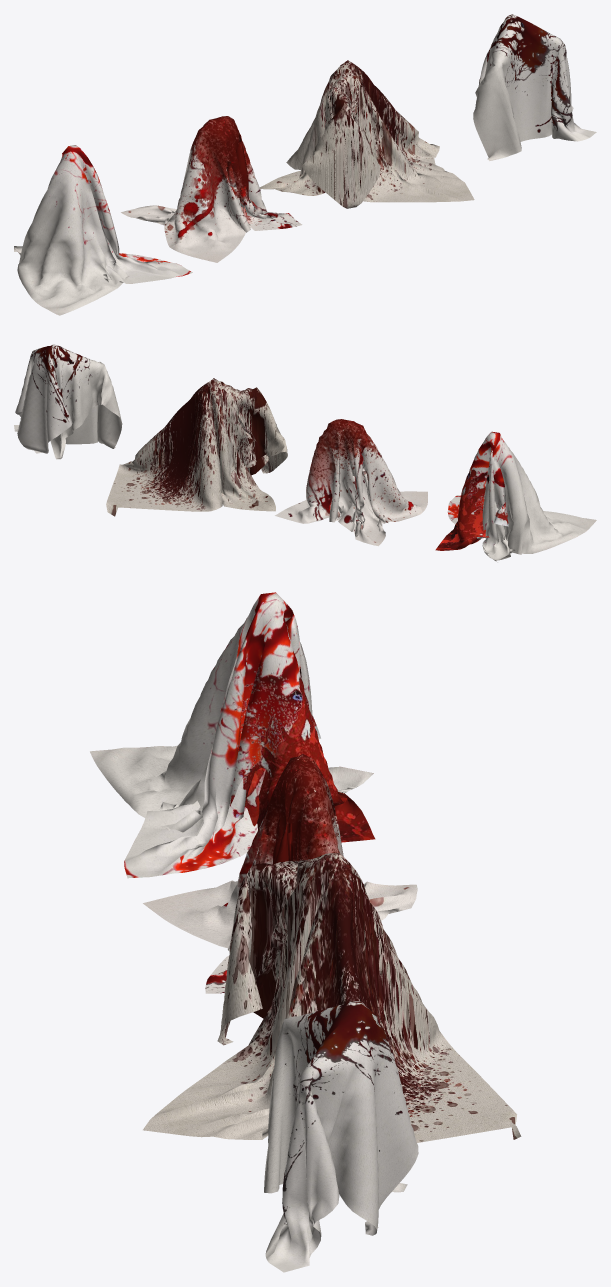
3 renders of one model, top to bottom at view 1: azimuth 30°, elevation 25°; view 2: azimuth 150°, elevation 25°; view 3: azimuth 270°, elevation 25°, orthographic. The views are drawn at different scales.
Visible parts, largest first — view 1: Plane003, Plane001, 22, Plane002; view 2: Plane003, Plane001, Plane002, 22; view 3: Plane003, Plane001, 22, Plane002.
Boxes of the visible parts, x1=… form: Plane003: x1=259, y1=60, x2=474, y2=208; Plane001: x1=14, y1=145, x2=192, y2=315; 22: x1=473, y1=14, x2=596, y2=160; Plane002: x1=121, y1=116, x2=302, y2=262; Plane003: x1=106, y1=378, x2=287, y2=516; Plane001: x1=435, y1=431, x2=596, y2=562; Plane002: x1=275, y1=419, x2=427, y2=546; 22: x1=14, y1=344, x2=122, y2=459; Plane003: x1=143, y1=853, x2=521, y2=1142; Plane001: x1=90, y1=592, x2=375, y2=878; 22: x1=264, y1=1001, x2=418, y2=1272; Plane002: x1=143, y1=753, x2=417, y2=993.
Bounding box in the file's own units: 3.8 × 0.7944 × 1.32.
4 materials, 4 textured.
